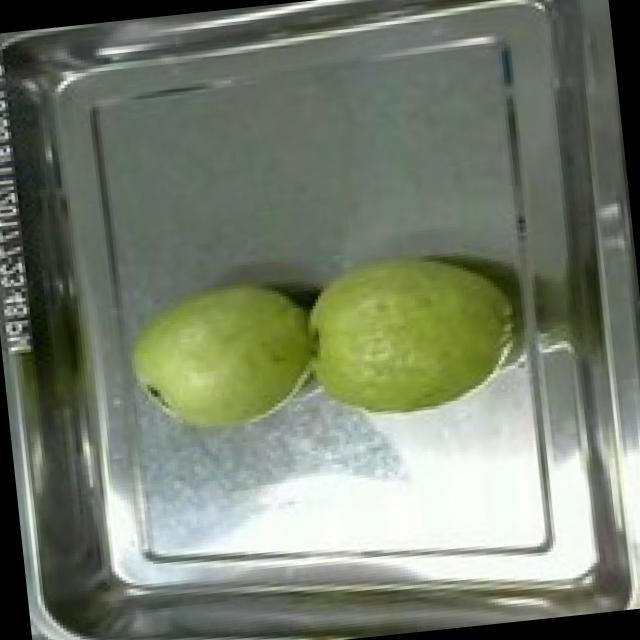Fruit: (291, 232, 529, 433), (113, 260, 328, 450)
